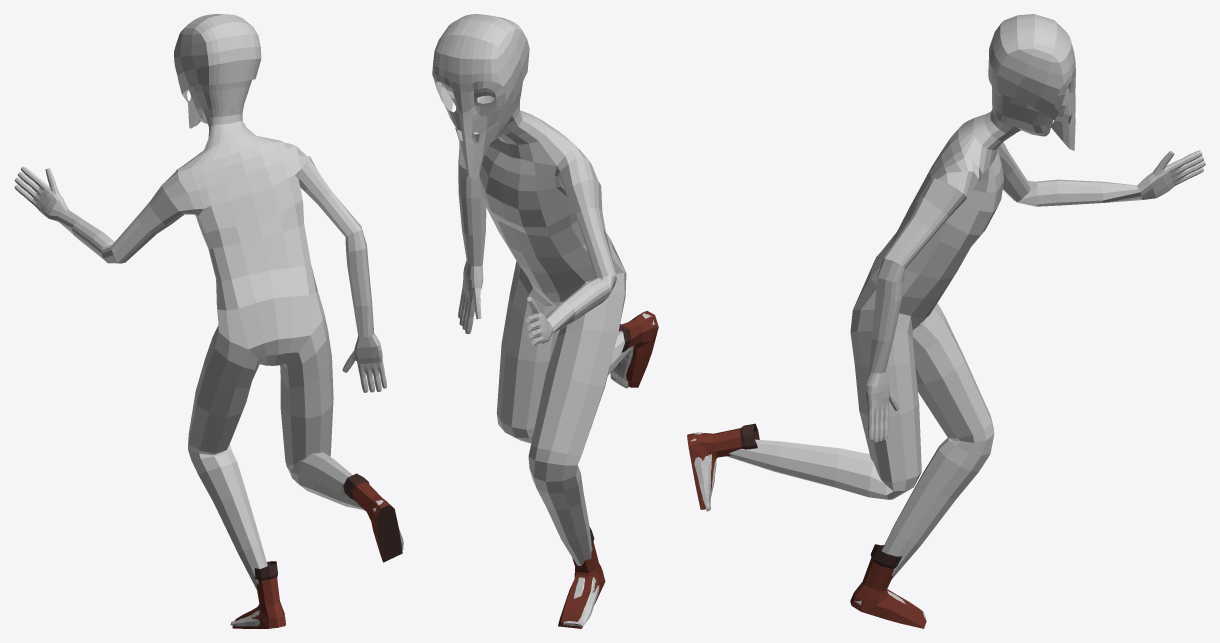
Rendered from saltoadelante_000098.obj.
3 renders of one model, left to right at view 1: azimuth 30°, elevation 25°; view 2: azimuth 150°, elevation 25°; view 3: azimuth 270°, elevation 25°, orthographic. The views are drawn at different scales.
Parts seen in each view (by area): view 1: Plane.002_Plane.001, Plane.003, Plane.004; view 2: Plane.002_Plane.001, Plane.003, Plane.004; view 3: Plane.002_Plane.001, Plane.004, Plane.003.
Boxes of the visible parts, x1,y1,x2,y2 form: Plane.002_Plane.001: (14,14,403,626); Plane.003: (343,473,402,562); Plane.004: (232,561,285,628); Plane.002_Plane.001: (432,14,654,626); Plane.003: (618,311,658,387); Plane.004: (558,527,605,628); Plane.002_Plane.001: (690,14,1205,619); Plane.004: (850,544,926,628); Plane.003: (687,423,759,509).
Size of the model in its own units: 2.64 by 6.5 by 4.94.
